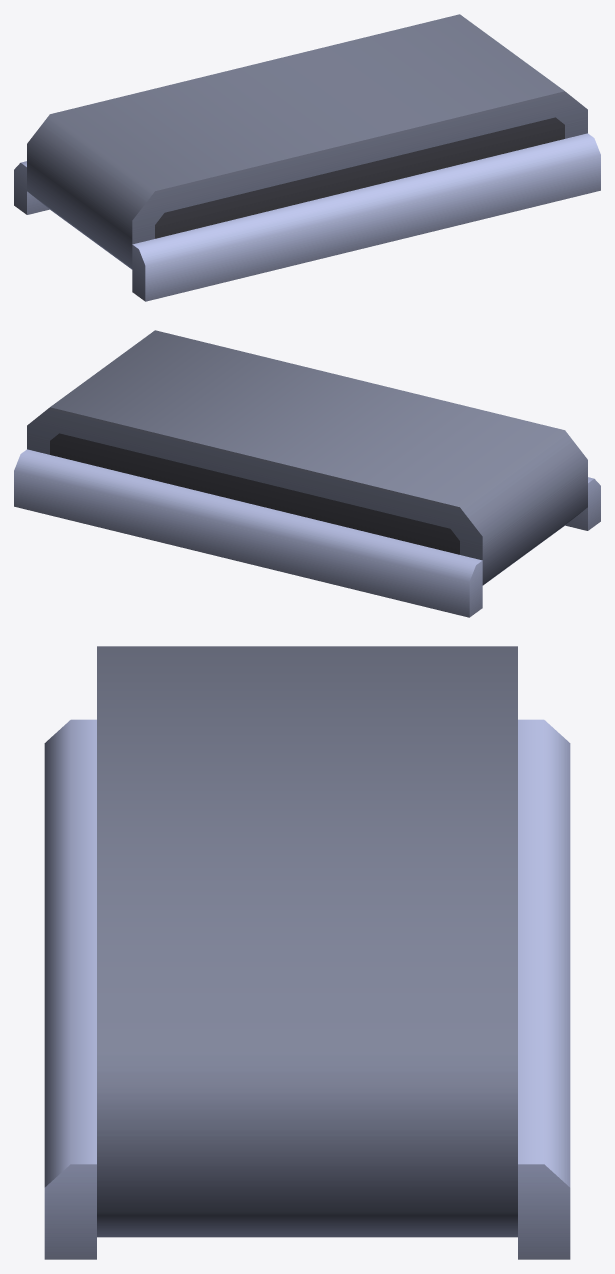
3 renders of one model, top to bottom at view 1: azimuth 30°, elevation 25°; view 2: azimuth 150°, elevation 25°; view 3: azimuth 270°, elevation 25°, orthographic. The views are drawn at different scales.
Parts seen in each view (by area): view 1: Group_1, Group; view 2: Group_1, Group; view 3: Group_1, Group.
Boxes of the visible parts, x1,y1,x2,y2 form: Group_1: [27, 14, 587, 269]; Group: [14, 133, 600, 301]; Group_1: [27, 330, 587, 585]; Group: [14, 449, 600, 617]; Group_1: [97, 646, 517, 1237]; Group: [44, 719, 570, 1259].
Size of the model in its own units: 2 by 0.4 by 1.
Materials: 1 (1 with a texture image).
